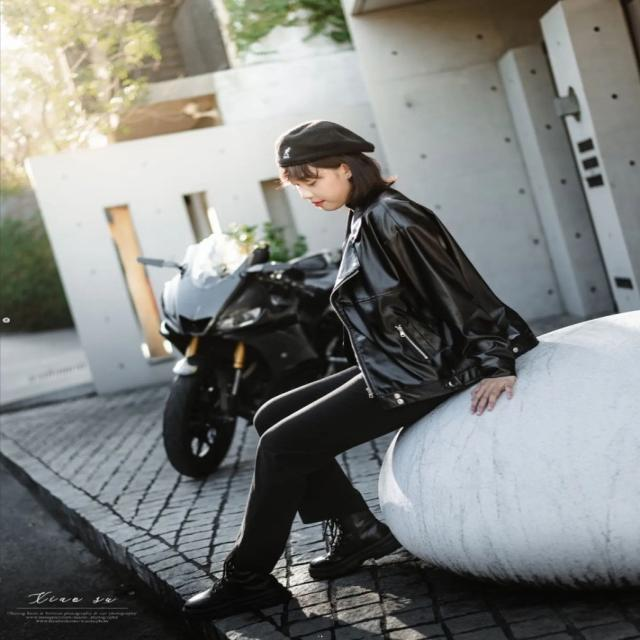illegal_helmet: (275, 117, 383, 215)
